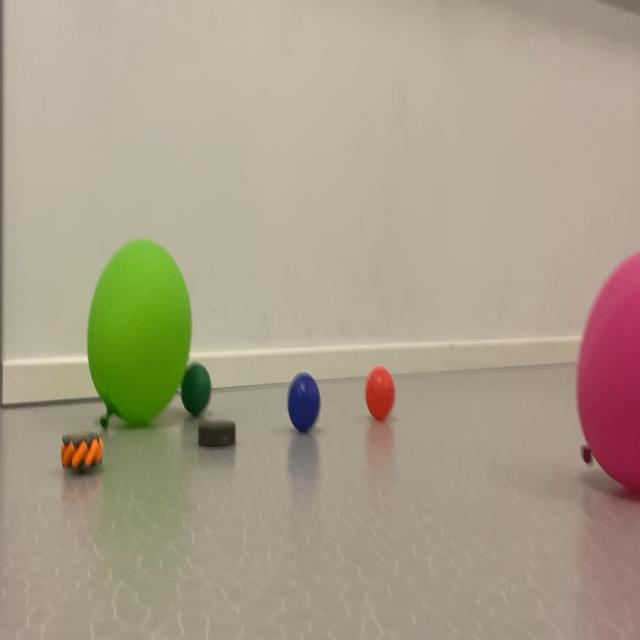red ball: (272, 336, 428, 465)
